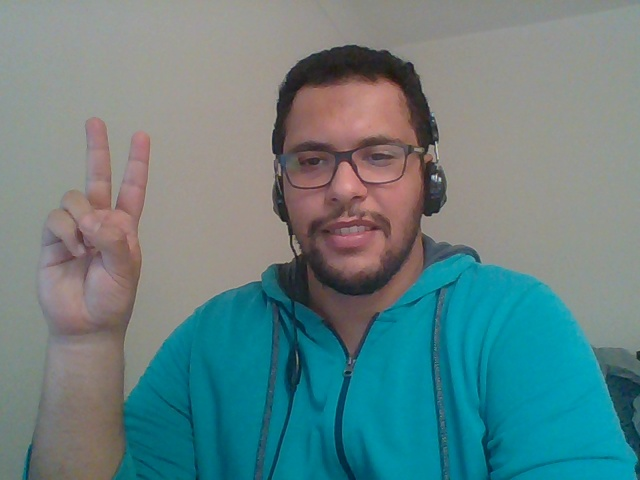vectory: (23, 102, 172, 363)
